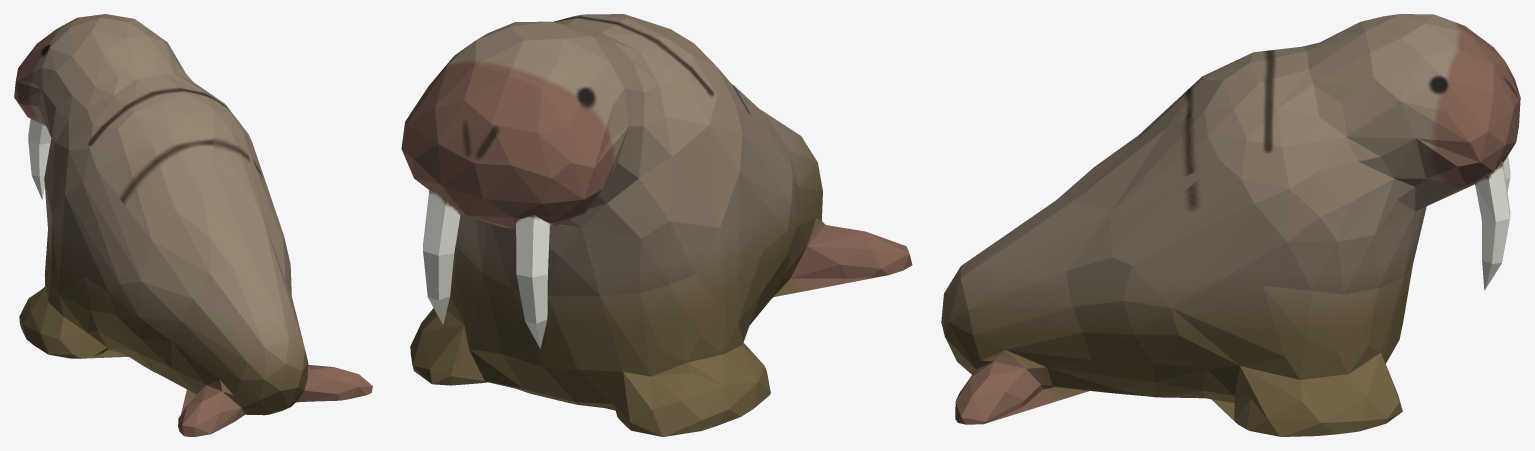
The model's file is animal_walrus_blob.obj.
3 renders of one model, left to right at view 1: azimuth 30°, elevation 25°; view 2: azimuth 150°, elevation 25°; view 3: azimuth 270°, elevation 25°, orthographic. The views are drawn at different scales.
Parts seen in each view (by area): view 1: animal_walrus_blob; view 2: animal_walrus_blob; view 3: animal_walrus_blob.
Part boxes in pixels (box(x1,y1,x2,y2)): animal_walrus_blob: box(14, 14, 372, 436); animal_walrus_blob: box(401, 14, 912, 436); animal_walrus_blob: box(941, 14, 1520, 436).
Size of the model in its own units: 0.85 by 0.9478 by 1.45.
